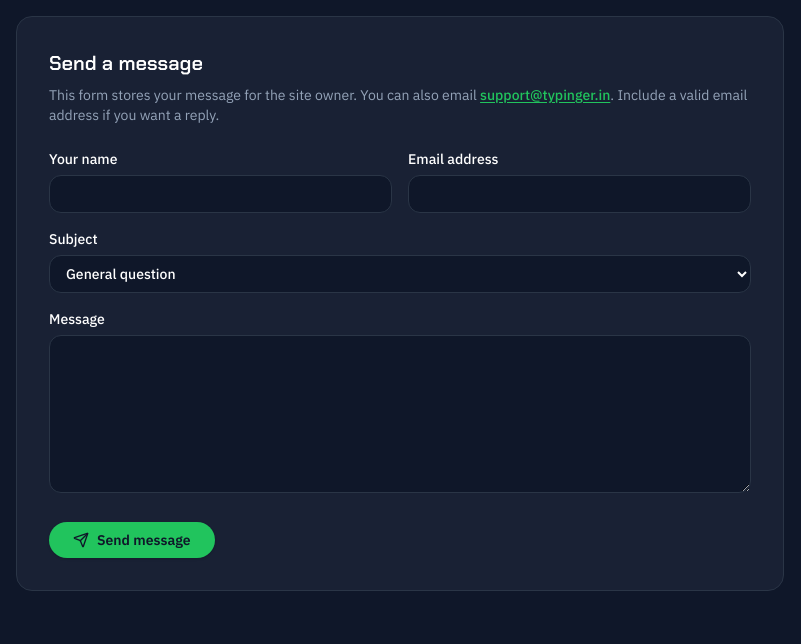
ContactForm › explains a rate limit without pretending the message was sent
Type "Ada" into the field with test id "contact-name".
click(220, 194); type("Ada")  # box [49,175,392,213]
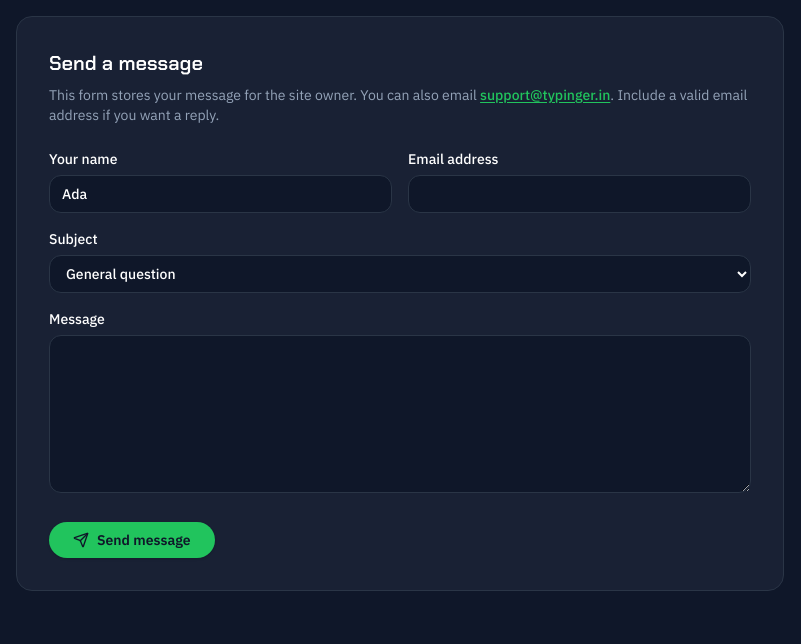
Type "ada@example.com" into the field with test id "contact-email".
click(580, 194); type("ada@example.com")  # box [408,175,751,213]
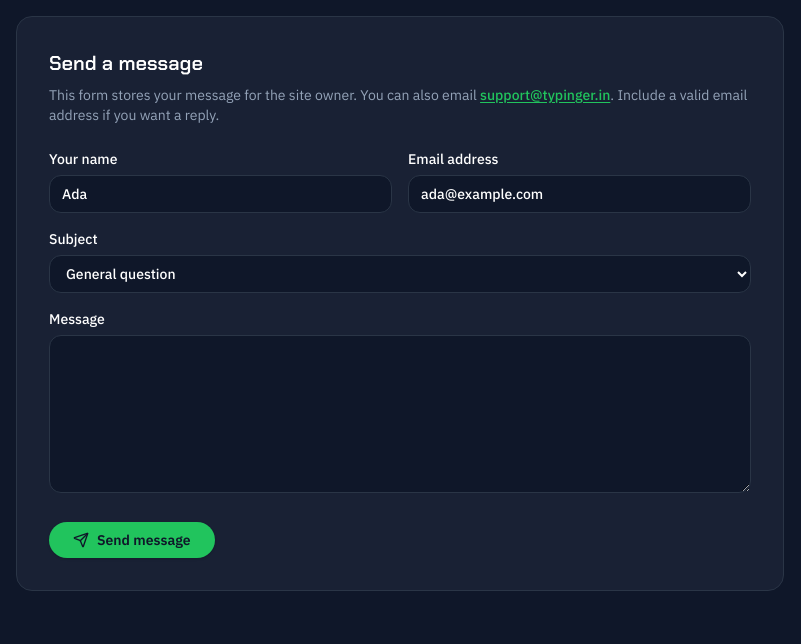
Type "The leaderboard has a result I would like reviewed." into the text box with test id "contact-message".
click(400, 414); type("The leaderboard has a result I would like reviewed.")  # box [49,335,751,493]
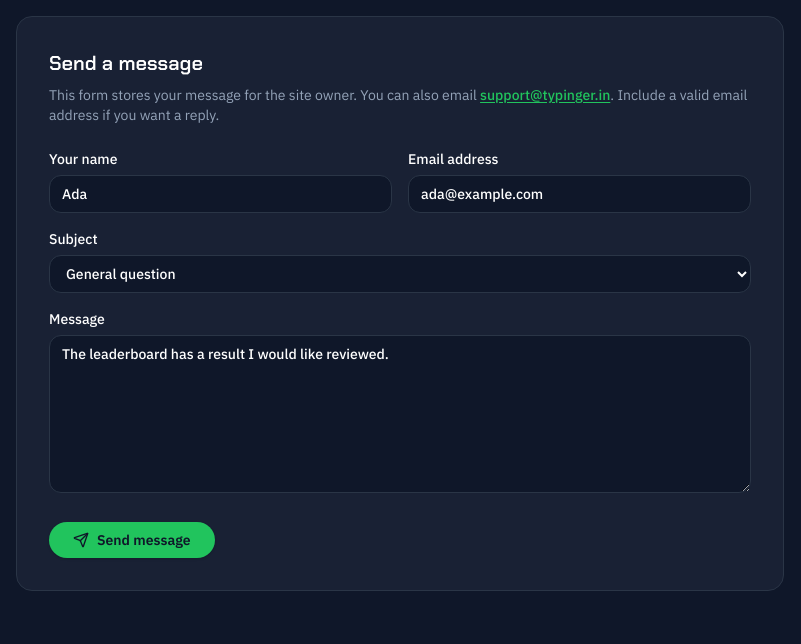
Click the button with test id "contact-submit".
click(132, 540)  # box [49,522,215,558]
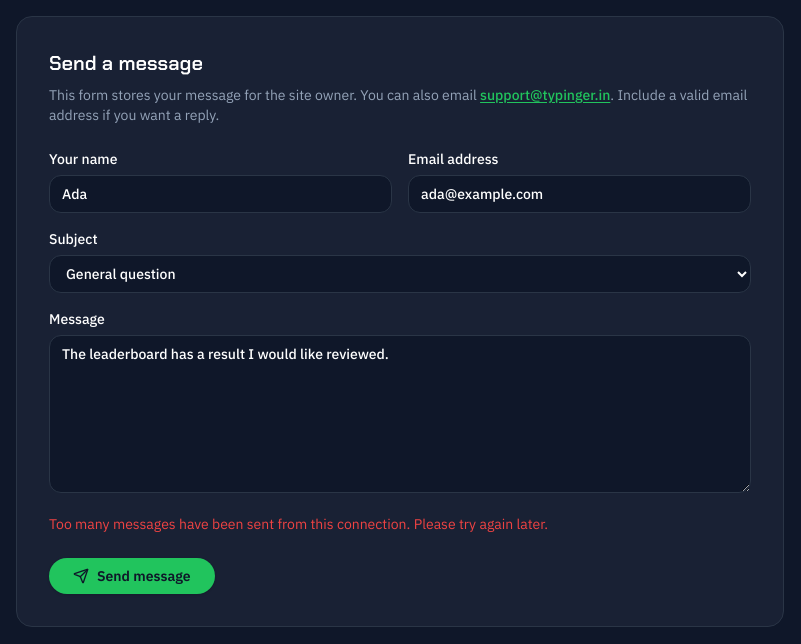
Result: the message with test id "contact-error" shows "Too many messages" at [49,515,548,533]
